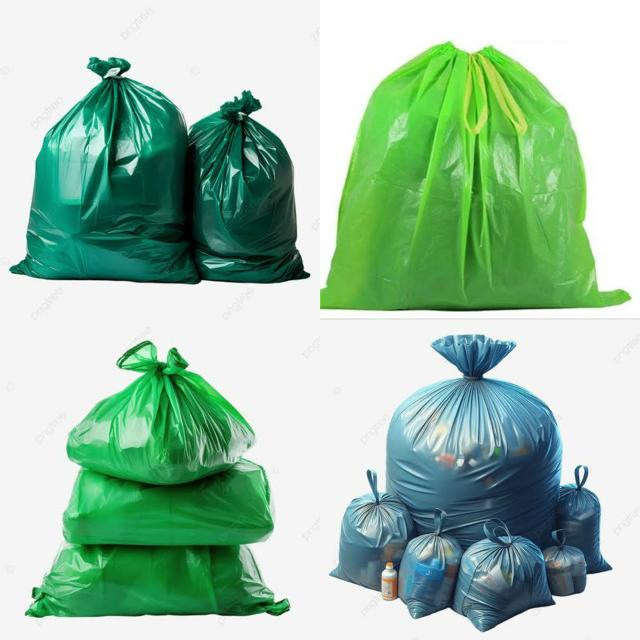Single-layer Plastic: (321, 42, 629, 310), (11, 58, 198, 282), (386, 335, 562, 548), (66, 341, 255, 485), (189, 91, 309, 282), (26, 544, 289, 618), (62, 459, 274, 546), (452, 519, 554, 631), (330, 470, 415, 590), (399, 509, 462, 619), (556, 465, 611, 574), (542, 529, 586, 596)
